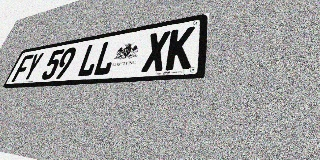5: (40, 49, 65, 80)
9: (52, 46, 78, 79)
F: (11, 54, 34, 82)
K: (165, 26, 195, 71)
L: (92, 39, 119, 76), (76, 42, 103, 77)
X: (141, 30, 171, 72)
Y: (21, 52, 45, 81)
